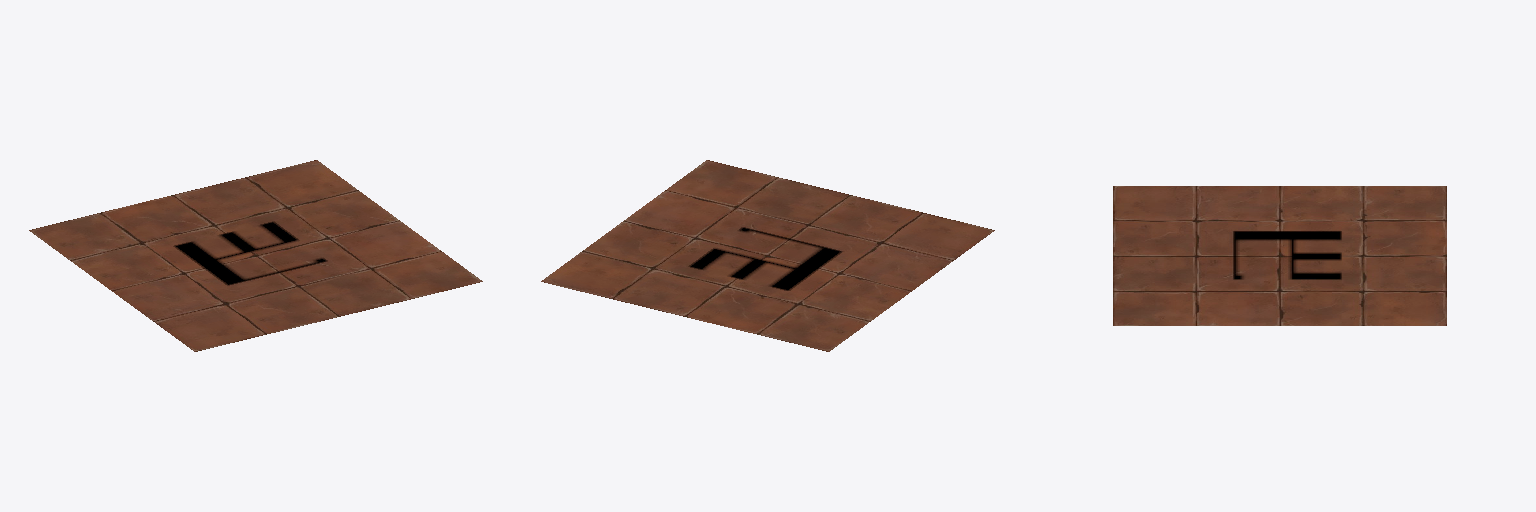
3 renders of one model, left to right at view 1: azimuth 30°, elevation 25°; view 2: azimuth 150°, elevation 25°; view 3: azimuth 270°, elevation 25°, orthographic.
Parts seen in each view (by area): view 1: pPlane1; view 2: pPlane1; view 3: pPlane1.
Part boxes in pixels (left/top/right/bottom): pPlane1: left=29, top=160, right=482, bottom=351; pPlane1: left=541, top=160, right=994, bottom=351; pPlane1: left=1113, top=186, right=1446, bottom=325.
Size of the model in its own units: 8 by 0 by 8.
Materials: 1 (1 with a texture image).